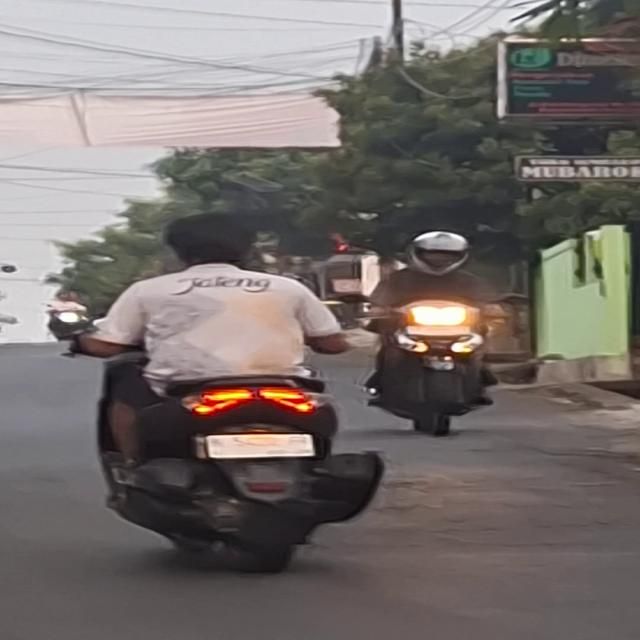WithHelmet: (360, 229, 523, 433)
WithoutHelmet: (50, 212, 393, 574)
